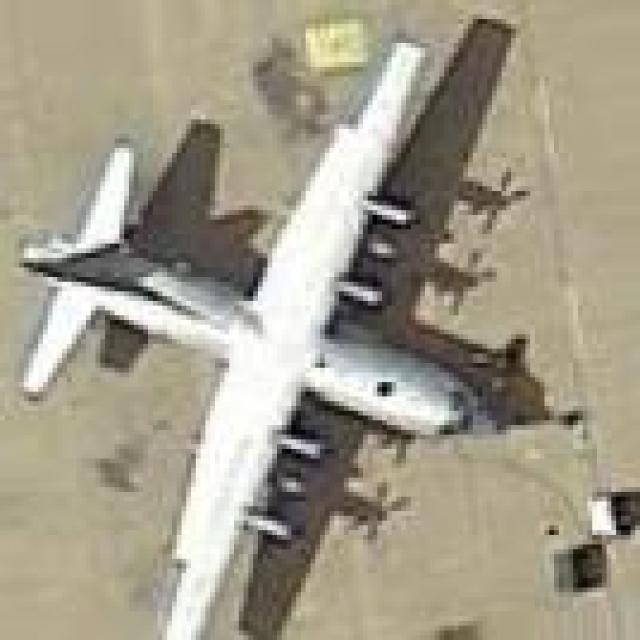C-130_TopDown: (10, 14, 554, 640)
